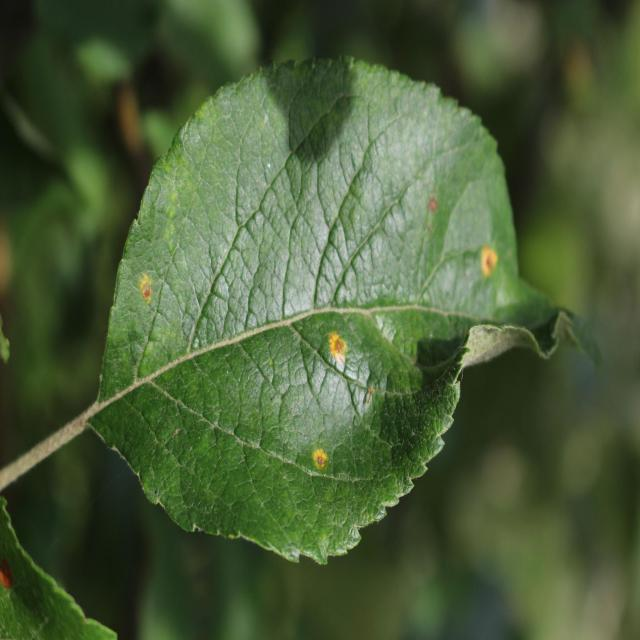Rust: (325, 330, 352, 370), (476, 243, 500, 285), (136, 269, 156, 311), (311, 449, 328, 477), (428, 188, 440, 216)
